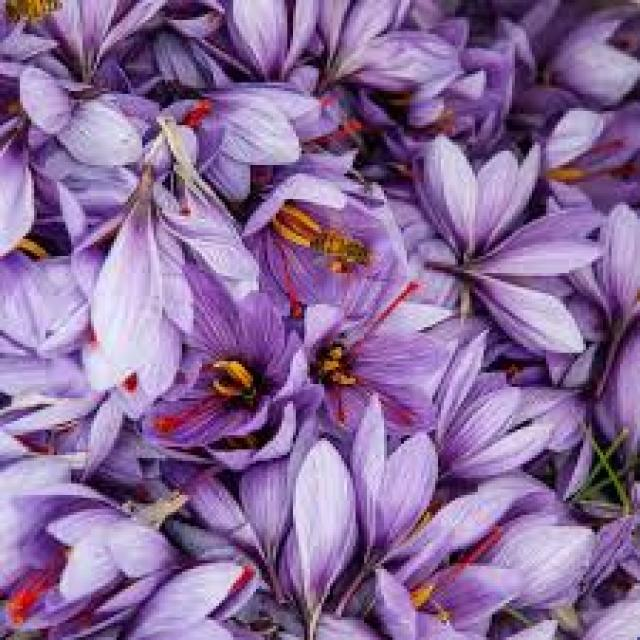Flower: (237, 170, 441, 322), (150, 298, 320, 466), (277, 301, 464, 436), (372, 520, 548, 640)
stigma: (356, 275, 426, 351), (442, 520, 502, 588)
